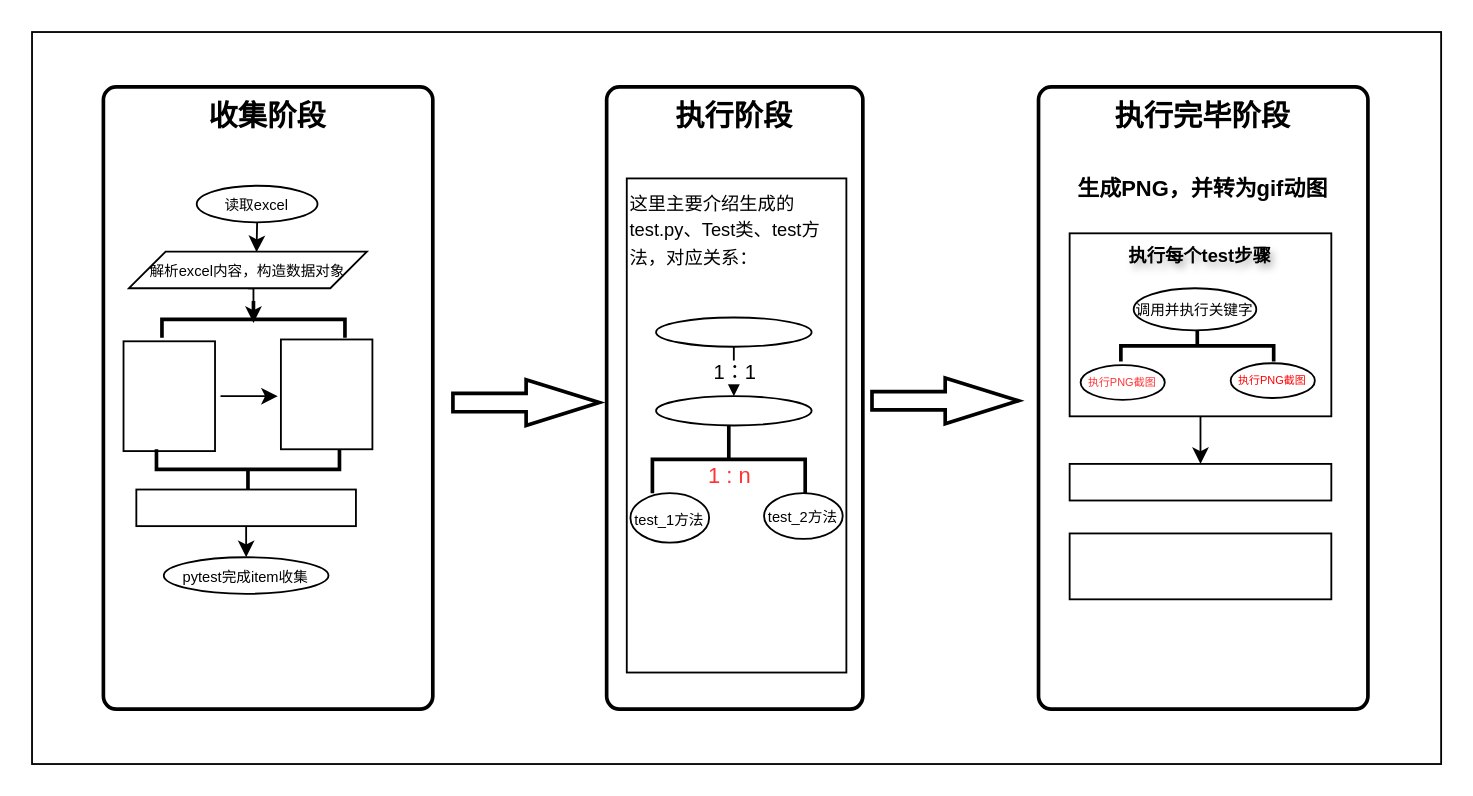
Some shapes in this 1473 by 796 pixel diagram are drawn without their labels. Each missing label, with the centre of its shape:
test_xx.py: (733,331)
Test类: (733,409)
一个Test类的所有步骤执行完后， 收集所有PNG图片，排序后 生成gif动图: (1199,565)
完成excel转test.py: (245,507)
按jinja2模板， 自动生成Test类代码 块: (168,395)
按步骤顺序，重复以上操作: (1199,481)
自动创建test.py文件 ，并写入Test类代码: (325,393)
